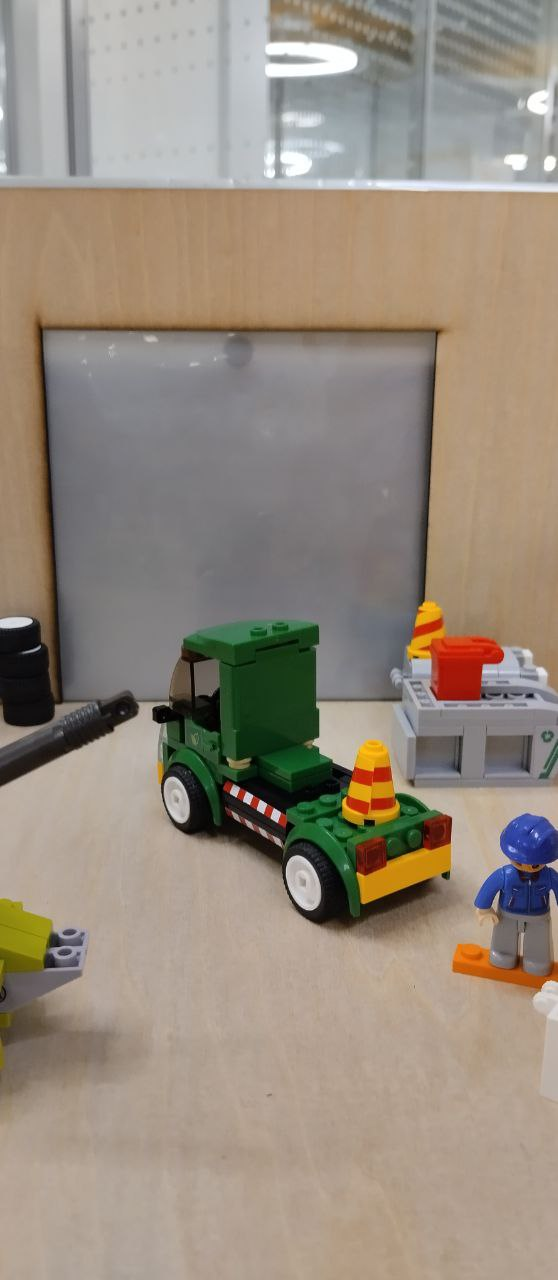Cone: (343, 740, 402, 823), (409, 599, 444, 654)
Object Red: (431, 636, 502, 700)
Truck: (151, 618, 458, 930)
